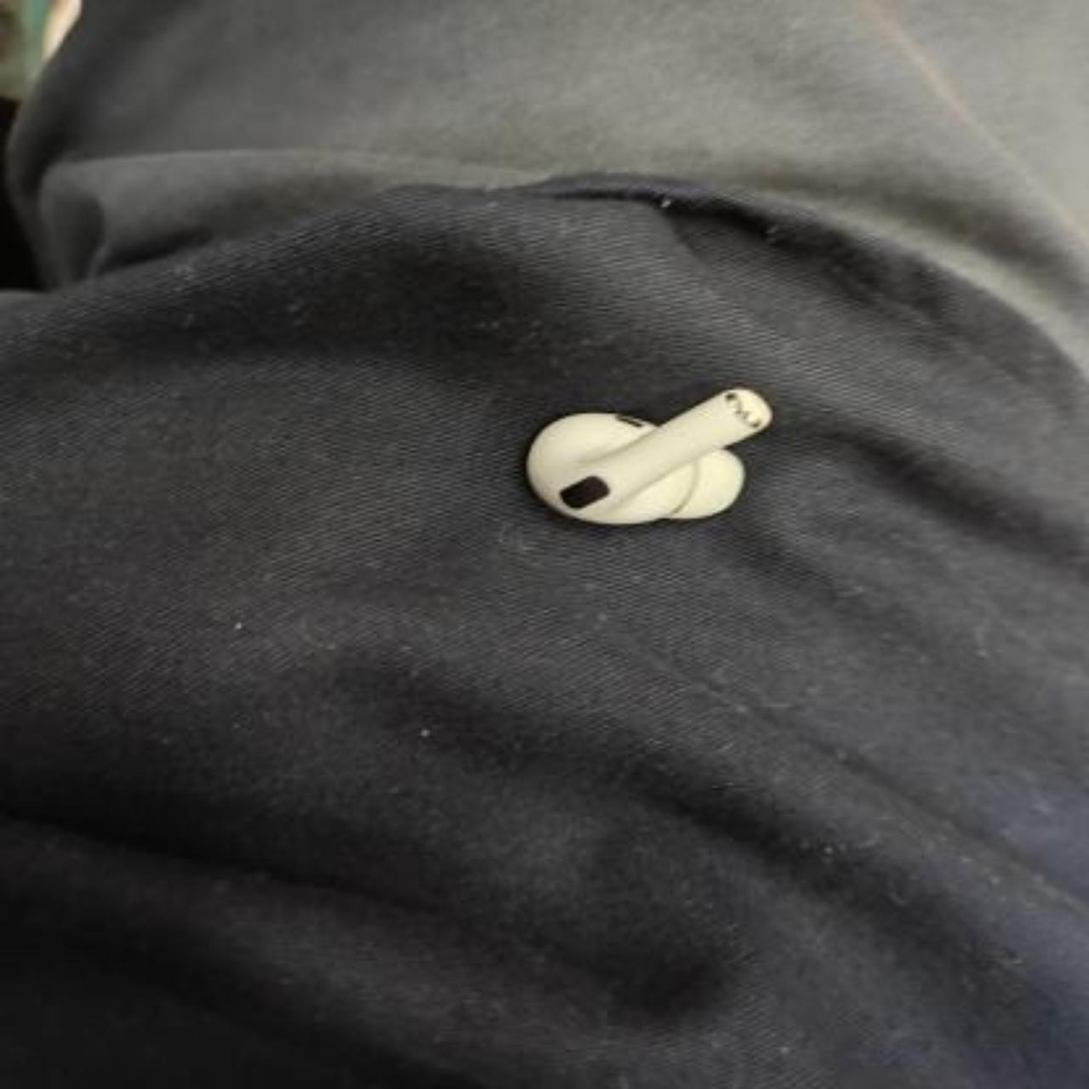Airpods_Units: (509, 329, 823, 559)
